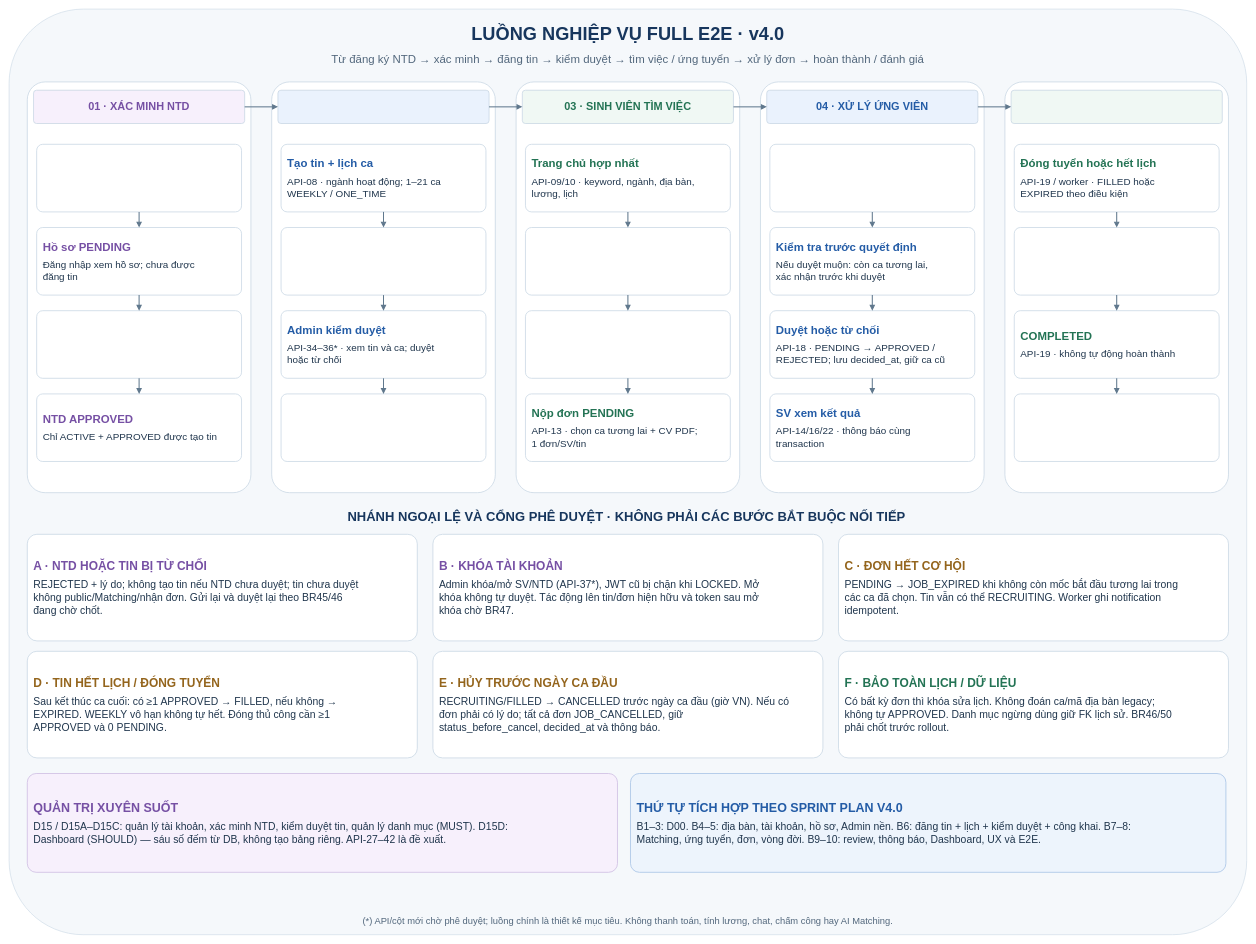
This 1256x944 diagram has some shape labels left out. Each missing label, with the box of its shape:
02 · TIN & KIỂM DUYỆT: (277, 90, 489, 124)
05 · VÒNG ĐỜI & REVIEW: (1011, 90, 1222, 124)
Admin xét duyệt API-30–33* · xem minh chứng riêng; ghi quyết định: (36, 310, 242, 378)
Matching (tùy chọn) API-24–26 · SV đã đăng nhập; lịch rảnh, ANY/ALL, trọn ca: (525, 310, 730, 378)
NTD xem đơn / CV API-15–17 · chỉ chủ tin, đúng quyền: (769, 144, 975, 212)
NTD đăng ký API-01 + 27–29* · hồ sơ, địa bàn, minh chứng: (36, 144, 242, 212)
Nếu FILLED NTD xác nhận thực tế đã làm xong: (1014, 227, 1219, 295)
RECRUITING / PENDING Lưu tin và ca cùng transaction; chưa công khai: (280, 227, 486, 295)
Tin APPROVED Công khai khi đủ điều kiện nhận đơn: (280, 393, 486, 462)
Đánh giá hai chiều API-20/21 · APPROVED + COMPLETED; mỗi chiều một lần: (1014, 393, 1219, 462)
Đăng nhập nếu cần API-02 · Guest quay đúng tin, kiểm lại quyền và ca: (525, 227, 730, 295)
